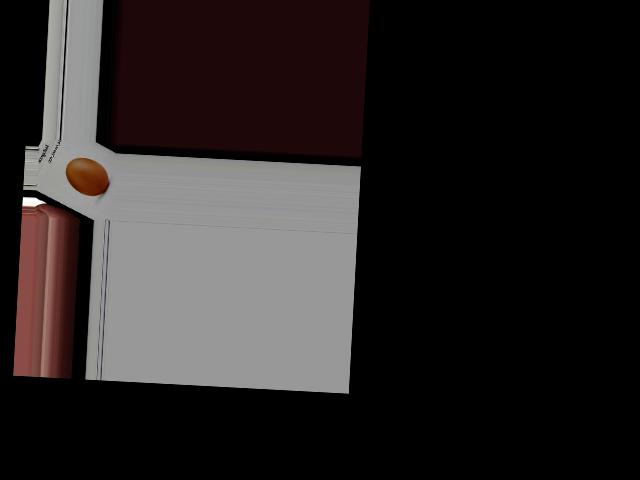egg: (64, 157, 109, 197)
